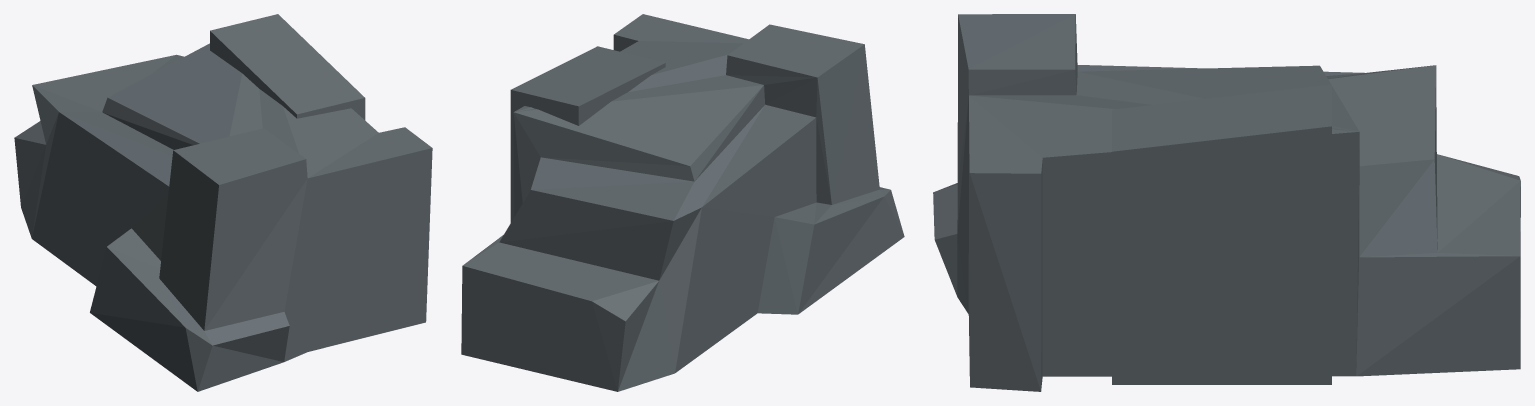
The model's file is Rock_Layered_2_LOD1.fbx.
The picture shows the model from 3 angles, left to right: view 1: azimuth 30°, elevation 25°; view 2: azimuth 150°, elevation 25°; view 3: azimuth 270°, elevation 25°; orthographic projection. The views are drawn at different scales.
Parts seen in each view (by area): view 1: polySurface10336; view 2: polySurface10336; view 3: polySurface10336.
Boxes of the visible parts, x1=… form: polySurface10336: x1=14, y1=14, x2=432, y2=391; polySurface10336: x1=461, y1=14, x2=904, y2=391; polySurface10336: x1=933, y1=14, x2=1520, y2=391.
Size of the model in its own units: 166 by 130 by 267.
